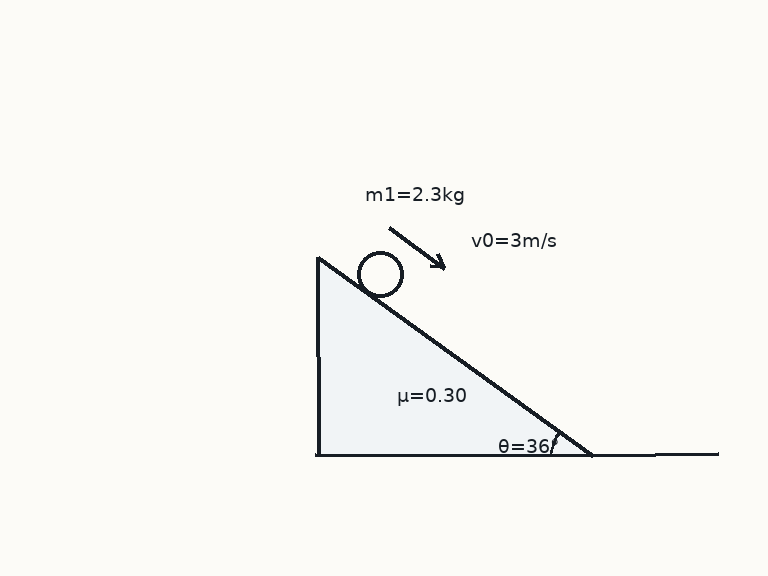ball: (355, 249, 405, 299)
ramp: (316, 255, 593, 458)
